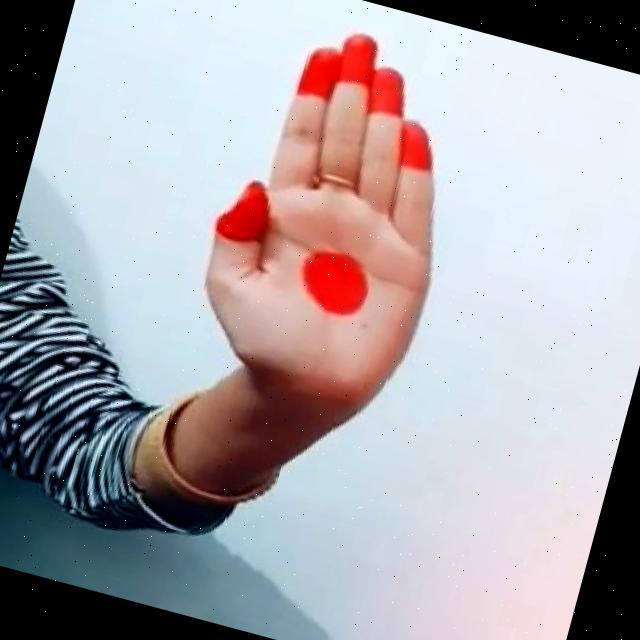Pataka: (138, 0, 551, 429)
bangle: (101, 372, 324, 536)
